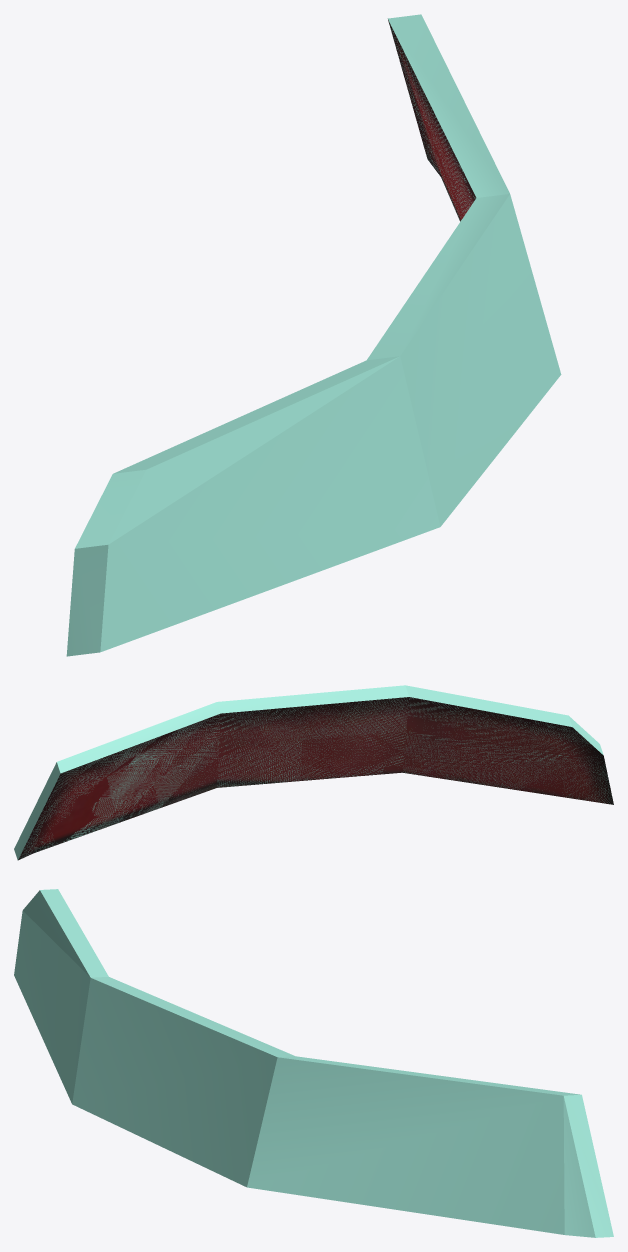
File: SampleCar_01_Brake_R.fbx
3 renders of one model, top to bottom at view 1: azimuth 30°, elevation 25°; view 2: azimuth 150°, elevation 25°; view 3: azimuth 270°, elevation 25°, orthographic. The views are drawn at different scales.
Parts seen in each view (by area): view 1: UTM_glass_006, glass_006_LOD0; view 2: glass_006_LOD0, UTM_glass_006; view 3: UTM_glass_006.
Boxes of the visible parts, x1,y1,x2,y2 form: UTM_glass_006: [66, 14, 561, 656]; glass_006_LOD0: [388, 19, 476, 221]; glass_006_LOD0: [18, 697, 613, 860]; UTM_glass_006: [14, 685, 612, 860]; UTM_glass_006: [14, 889, 613, 1237].
Bounding box in the file's own units: 22.17 × 4.91 × 20.66.
